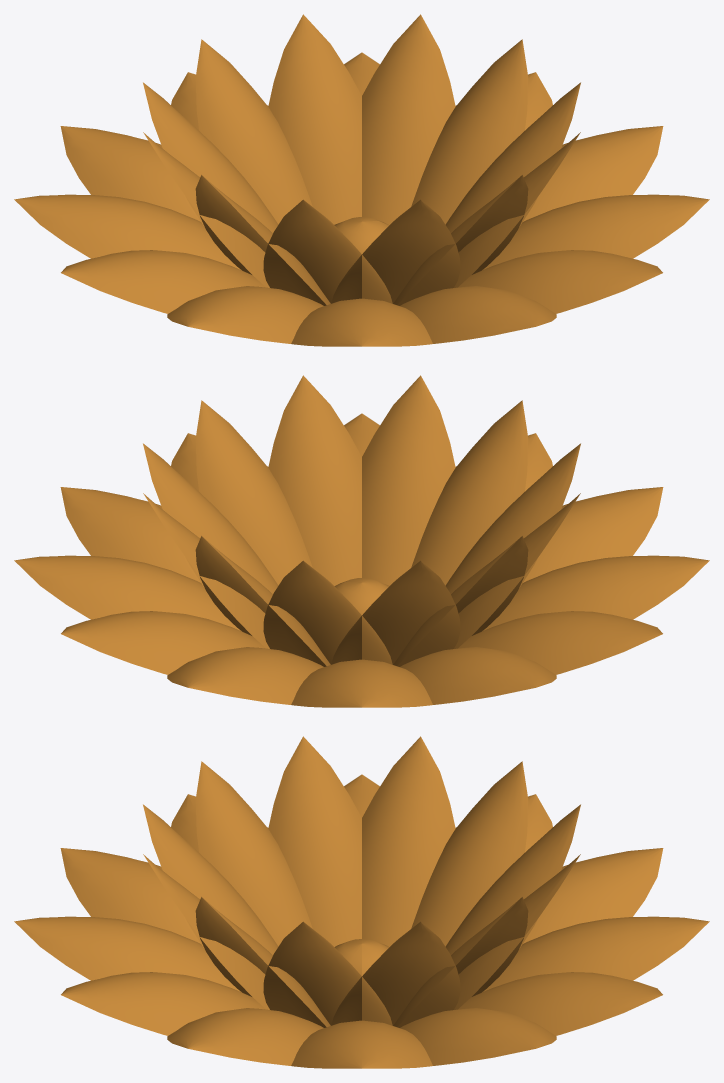
File: KimLien.fbx
3 views of the same model, one above another, from view 1: azimuth 30°, elevation 25°; view 2: azimuth 150°, elevation 25°; view 3: azimuth 270°, elevation 25° (orthographic).
Visible parts, largest first — view 1: KimLien_PhapBao; view 2: KimLien_PhapBao; view 3: KimLien_PhapBao.
Boxes of the visible parts, bbox=[...] form: KimLien_PhapBao: bbox=[14, 14, 709, 346]; KimLien_PhapBao: bbox=[14, 375, 709, 707]; KimLien_PhapBao: bbox=[14, 736, 709, 1068].
Bounding box in the file's own units: 184 × 59 × 184.
